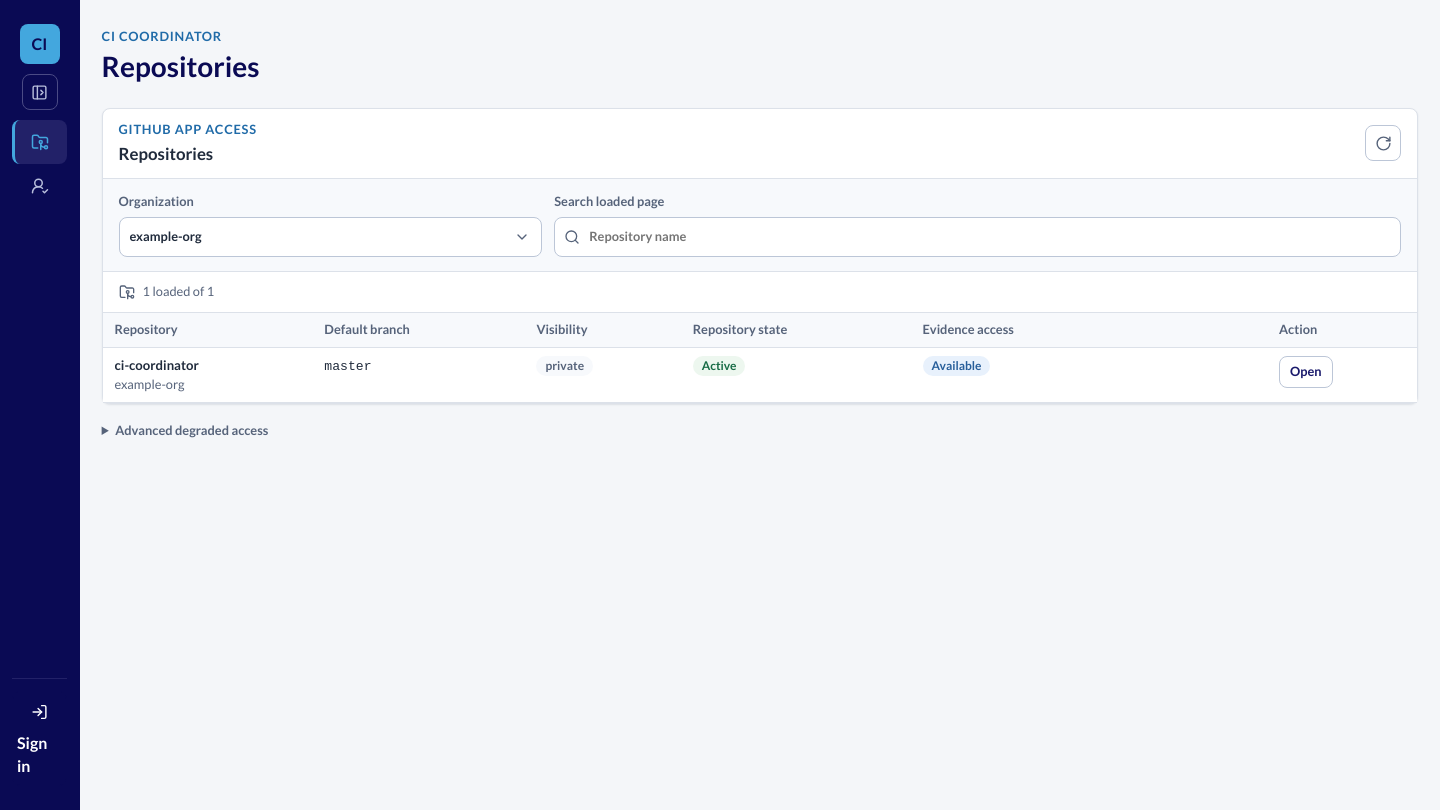
discovers the organization and repository before opening exact evidence
Expected: the text "ci-coordinator" is shown, [115,357,199,373]
Expected: the number field labelled "Installation" is not shown
Click the button "Open": (1306, 372) [1279,356,1333,388]
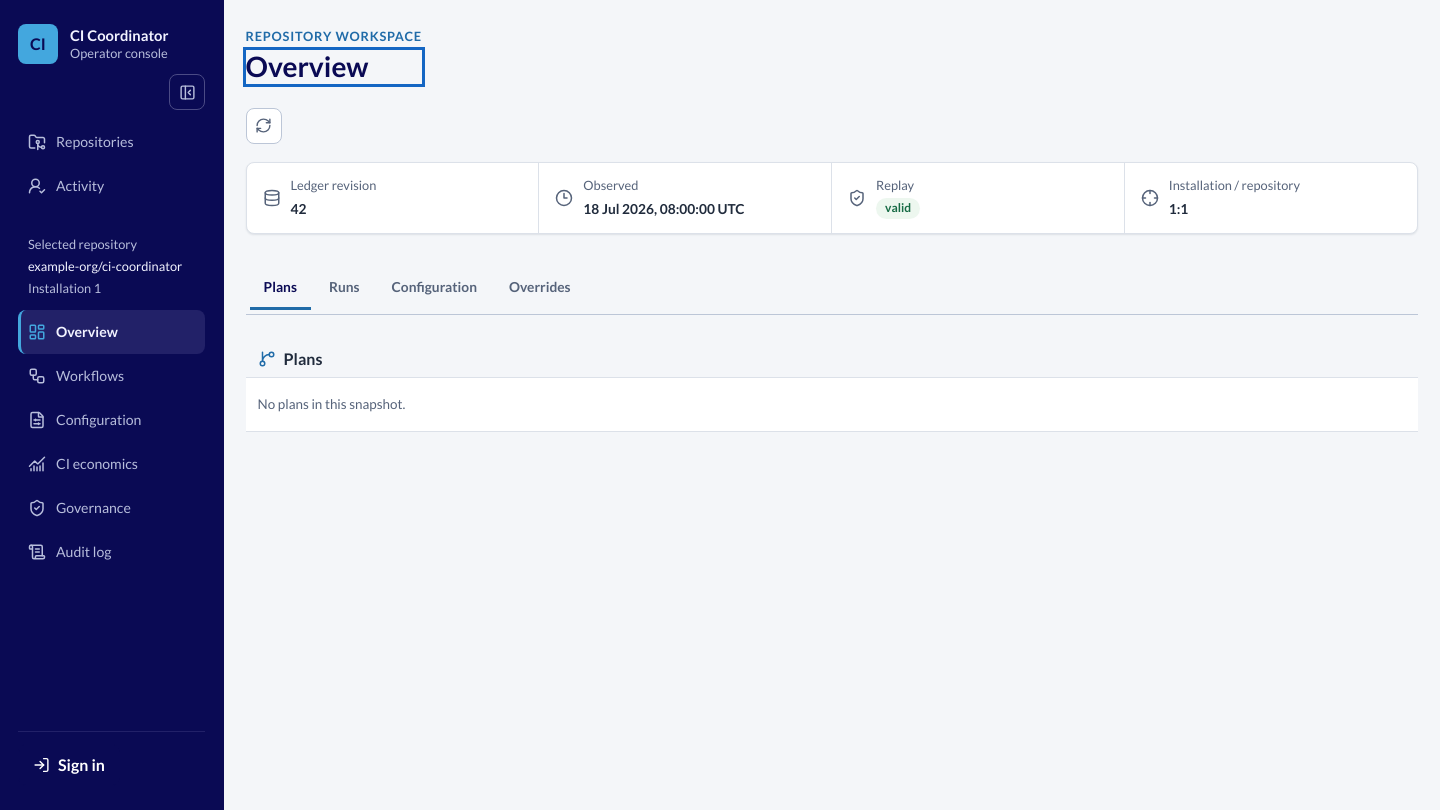
Result: the text "Ledger revision" is shown at [291,177,376,193]
Result: the text "No plans in this snapshot." is shown at [246,378,1418,432]
Result: the text "valid" is shown at [876,198,920,219]
